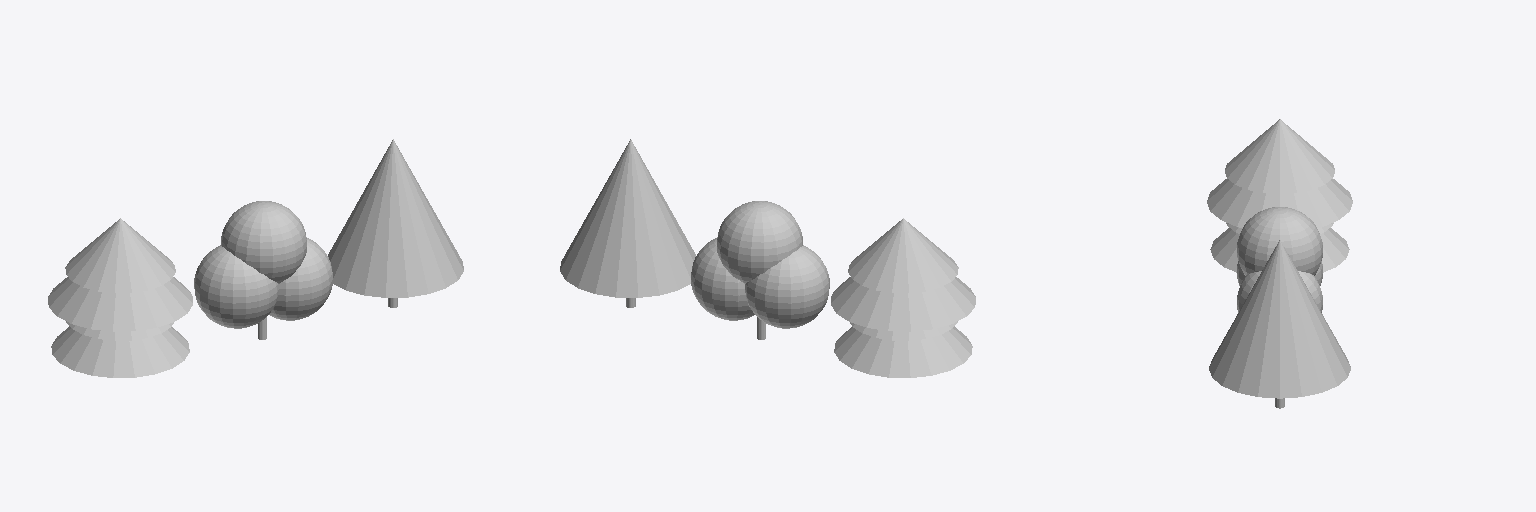
The model's file is Tree Bitches.obj.
3 renders of one model, left to right at view 1: azimuth 30°, elevation 25°; view 2: azimuth 150°, elevation 25°; view 3: azimuth 270°, elevation 25°, orthographic.
Bounding box in the file's own units: 23.91 × 9.6 × 7.64.